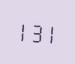one: (18, 18, 29, 43), (43, 20, 54, 45)
three: (31, 19, 42, 44)
